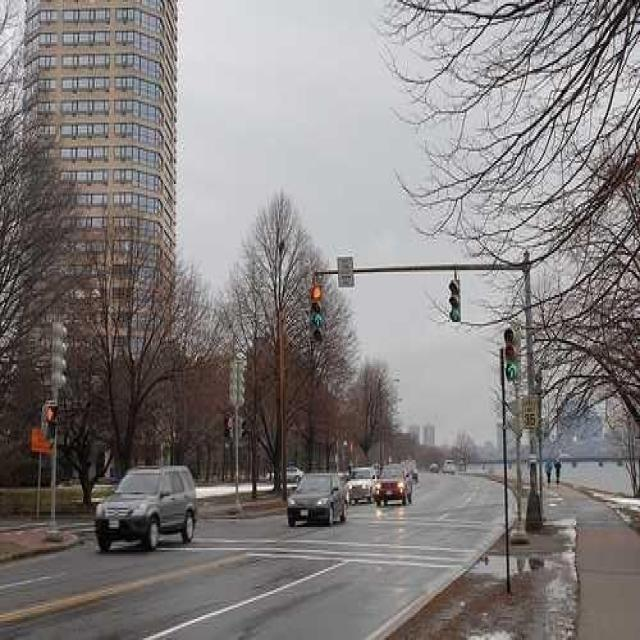Traffic Light -Green-: (499, 328, 521, 385), (447, 280, 463, 324)
Traffic Light -Red-: (309, 282, 325, 326)
